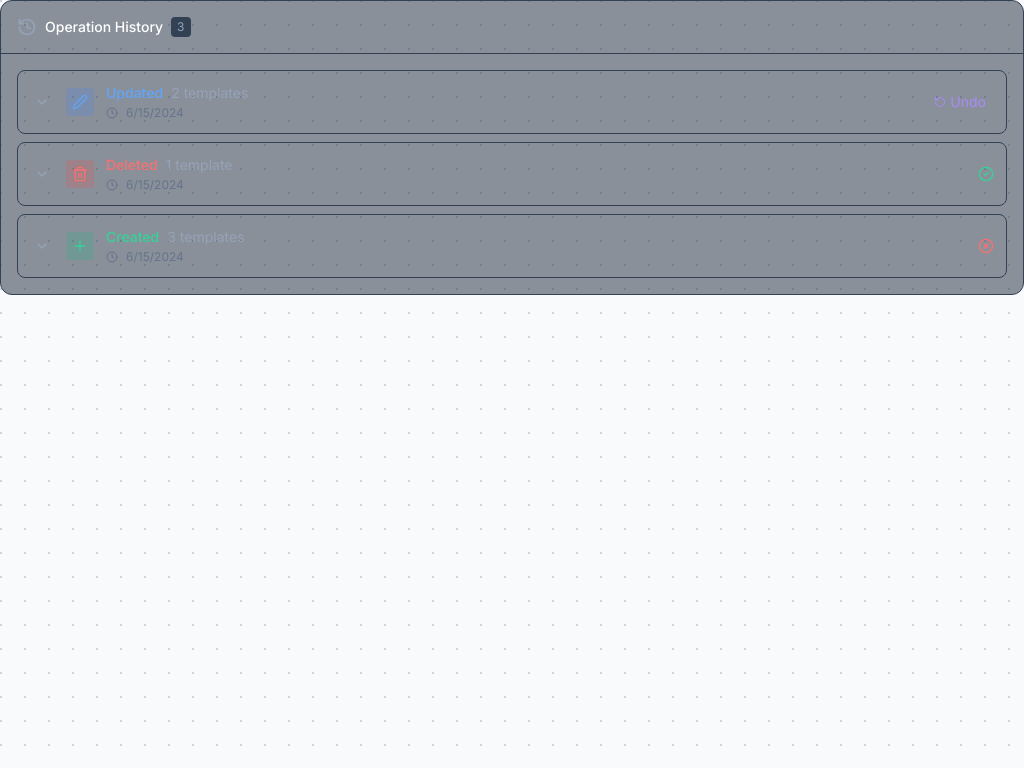
OperationHistoryPanel › Expand/Collapse › collapses when clicked again
The width and height of the screenshot is (1024, 768).
Click the button named "Expand" at (135, 92), box [30,84,994,120]
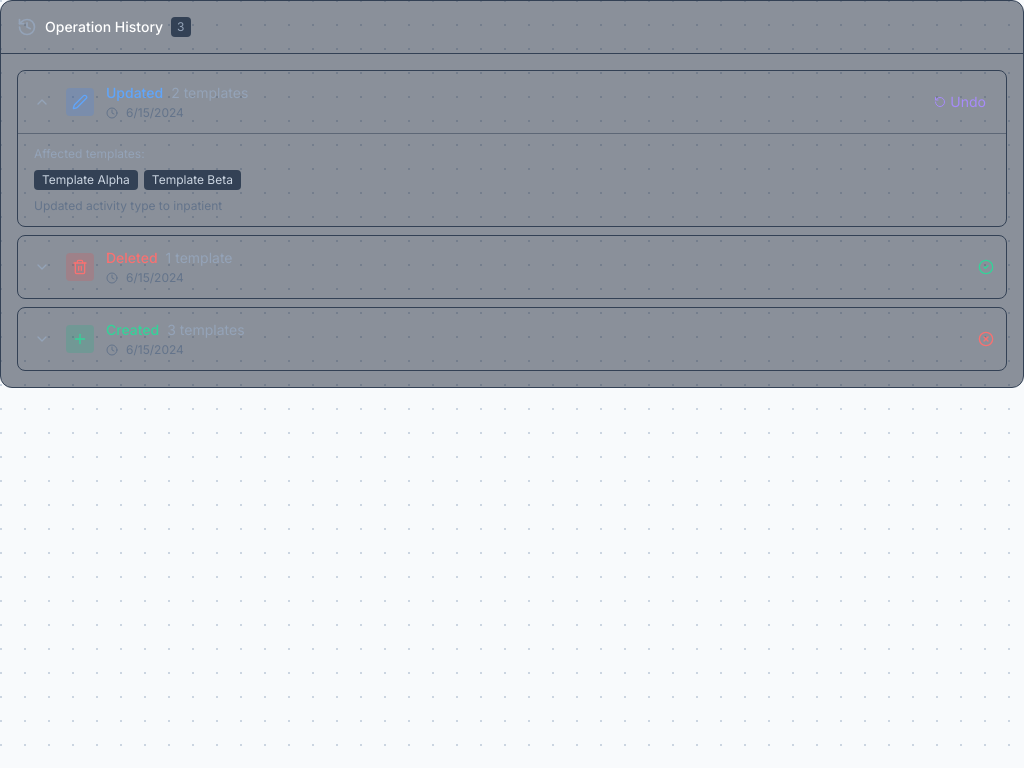
Now the text "Affected templates:" is shown, box [34,146,145,161]
Click the button named "Expand" at (135, 92), box [30,84,994,120]
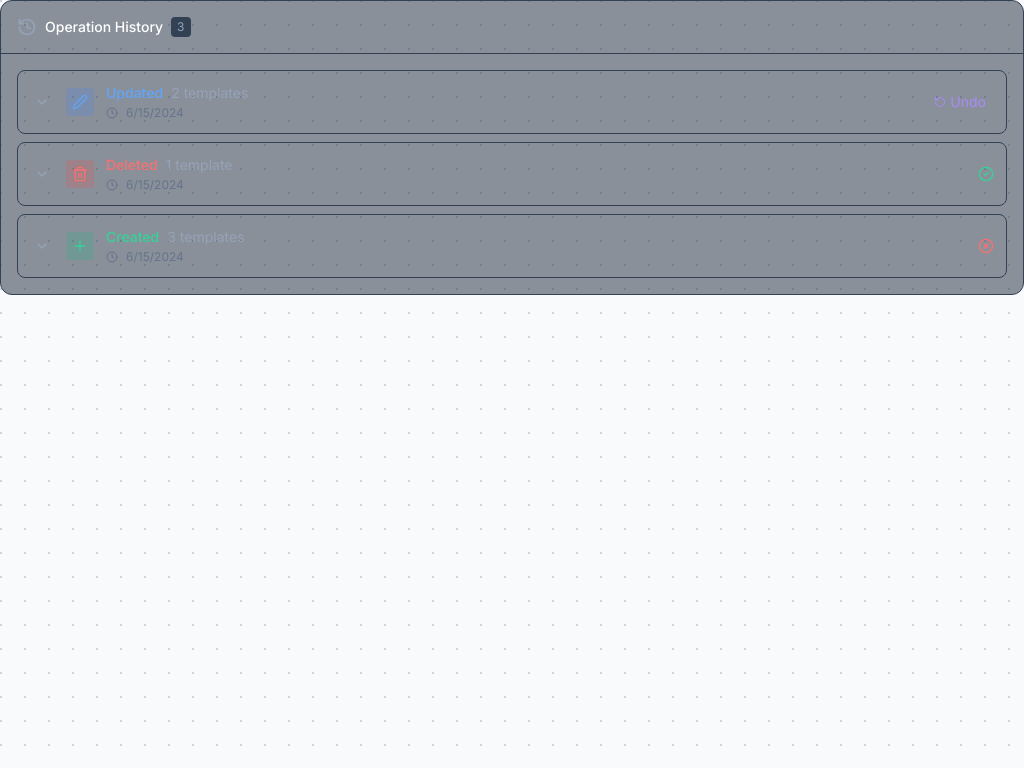
Now the text "Affected templates:" is gone
